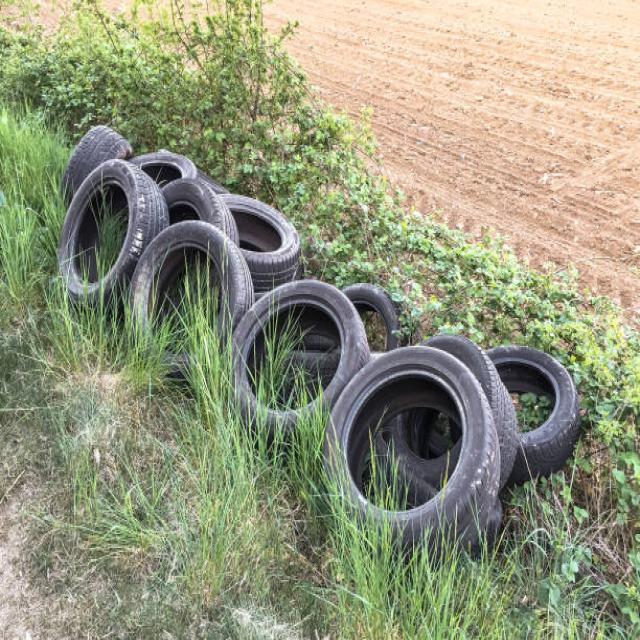tire: (322, 343, 503, 569), (229, 277, 370, 452), (125, 219, 254, 382), (56, 158, 170, 326), (483, 343, 581, 487), (216, 191, 302, 298), (59, 123, 132, 212), (159, 176, 239, 247), (343, 277, 405, 357), (127, 148, 195, 190)
